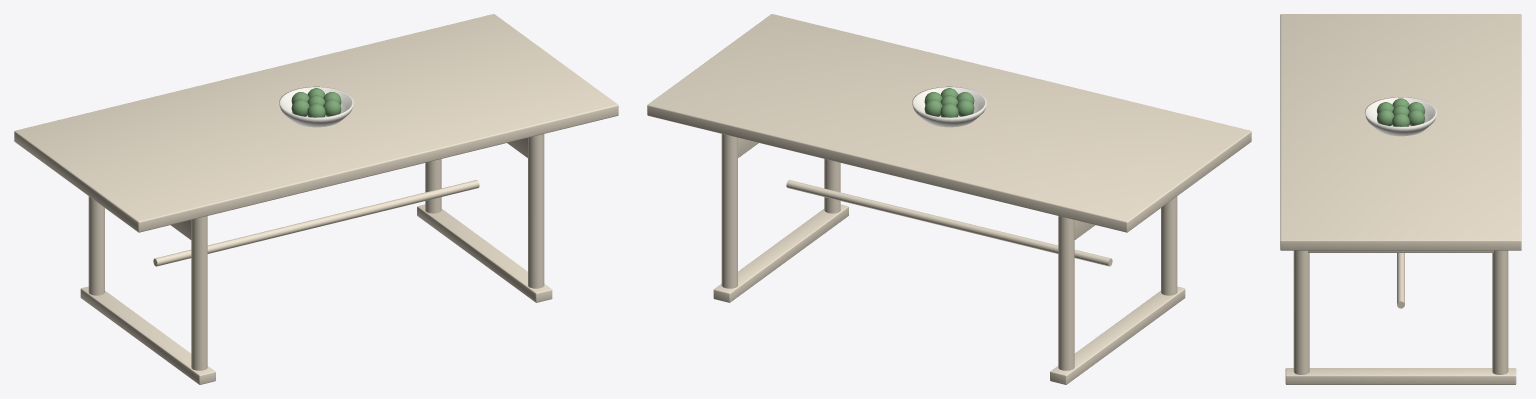
The model's file is sg_dining_table.glb.
The picture shows the model from 3 angles, left to right: view 1: azimuth 30°, elevation 25°; view 2: azimuth 150°, elevation 25°; view 3: azimuth 270°, elevation 25°; orthographic projection. The views are drawn at different scales.
Visible parts, largest first — view 1: top, trestle0_rail, trestle1_rail, stretcher, trestle1_post0, trestle0_post0, trestle0_post1, bowl, trestle1_post1; view 2: top, trestle0_rail, trestle1_rail, stretcher, trestle1_post1, trestle0_post1, trestle0_post0, bowl, trestle1_post0; view 3: top, trestle1_rail, trestle1_post0, trestle1_post1, bowl, trestle1_board, stretcher, fruit1, fruit5, fruit0.
Part boxes in pixels (box(x1,y1,x2,y2)): top: box(14, 14, 618, 232); trestle0_rail: box(80, 286, 215, 384); trestle1_rail: box(417, 204, 552, 302); stretcher: box(153, 180, 479, 266); trestle1_post0: box(528, 134, 544, 288); trestle0_post0: box(191, 216, 207, 370); trestle0_post1: box(88, 196, 104, 295); bowl: box(279, 86, 353, 127); trestle1_post1: box(425, 159, 441, 213); top: box(647, 14, 1251, 232); trestle0_rail: box(1050, 286, 1185, 384); trestle1_rail: box(713, 204, 848, 302); stretcher: box(786, 180, 1112, 266); trestle1_post1: box(721, 134, 737, 288); trestle0_post1: box(1058, 216, 1074, 370); trestle0_post0: box(1161, 196, 1177, 295); bowl: box(912, 86, 986, 127); trestle1_post0: box(824, 159, 840, 213); top: box(1280, 14, 1521, 250); trestle1_rail: box(1285, 368, 1516, 384); trestle1_post0: box(1293, 250, 1309, 374); trestle1_post1: box(1492, 250, 1508, 374); bowl: box(1364, 97, 1437, 136); trestle1_board: box(1308, 250, 1493, 252); stretcher: box(1397, 253, 1404, 308); fruit1: box(1407, 109, 1424, 125); fruit5: box(1377, 109, 1394, 125); fruit0: box(1392, 113, 1409, 126).
Bounding box in the file's own units: 2 × 0.806 × 0.9.
